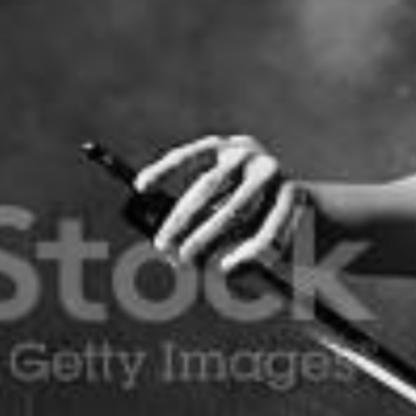good: (135, 113, 310, 290)
